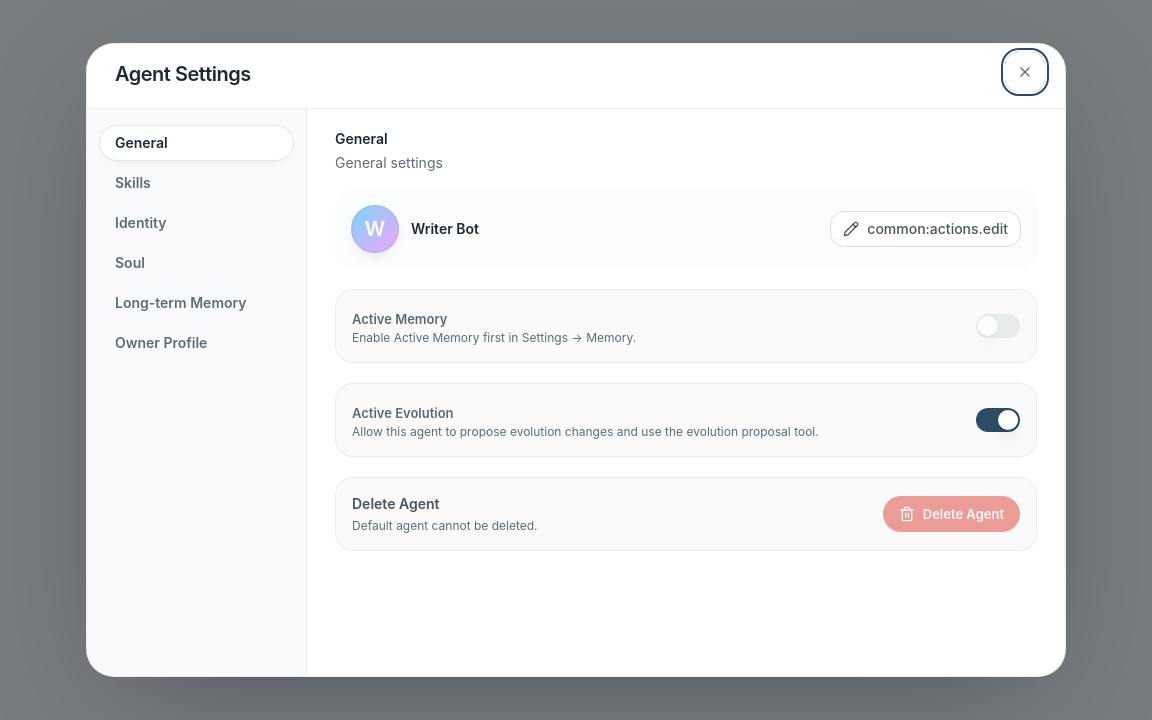
Test case: AgentSettingsDialog shell › disables edits for locked persona files
Click the tab "Identity" at (196, 223), box [99, 205, 294, 241]
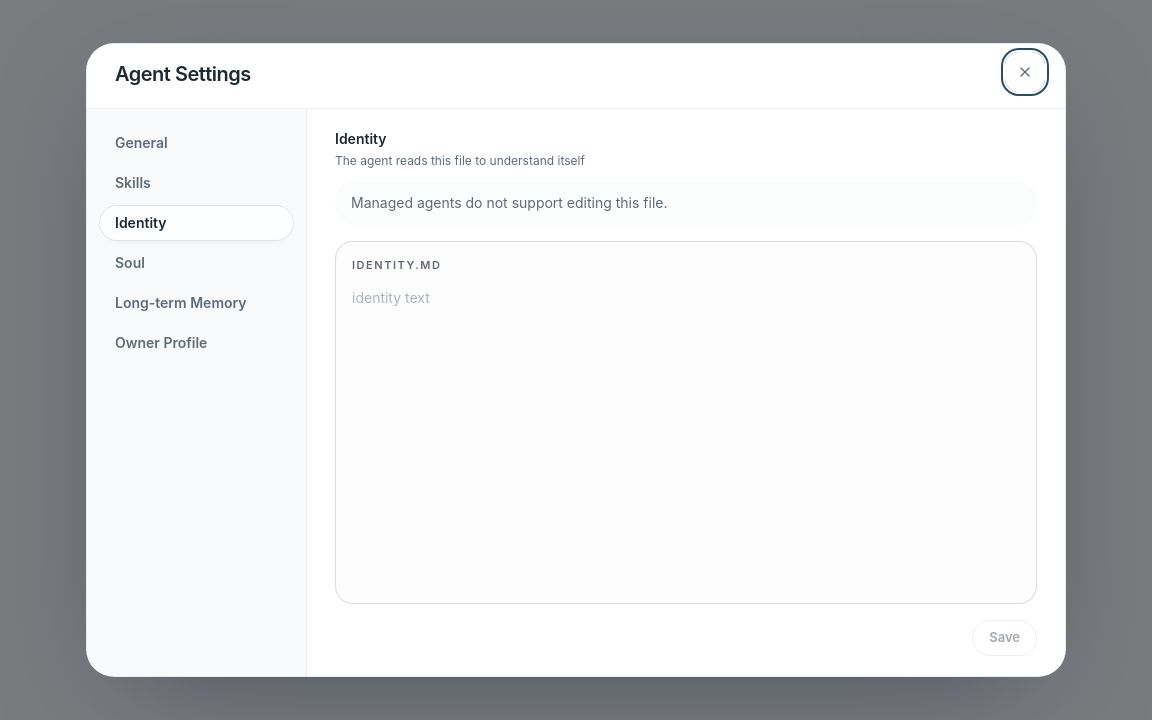
Now the text box labelled "IDENTITY.md" is disabled, box [352, 286, 1020, 587]
Now the button "Save" is disabled, box [972, 620, 1037, 656]
